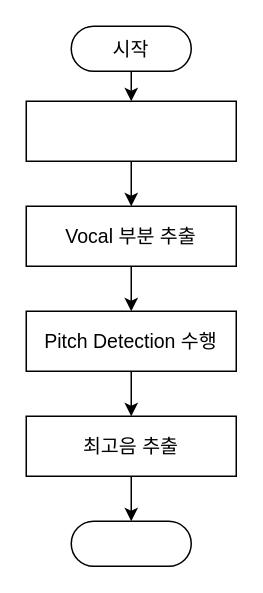
This 263x593 diagram has some shape labels left out. Each missing label, with the centre of its shape:
음원 파일 확보: [130,130]
종료: [130,543]
